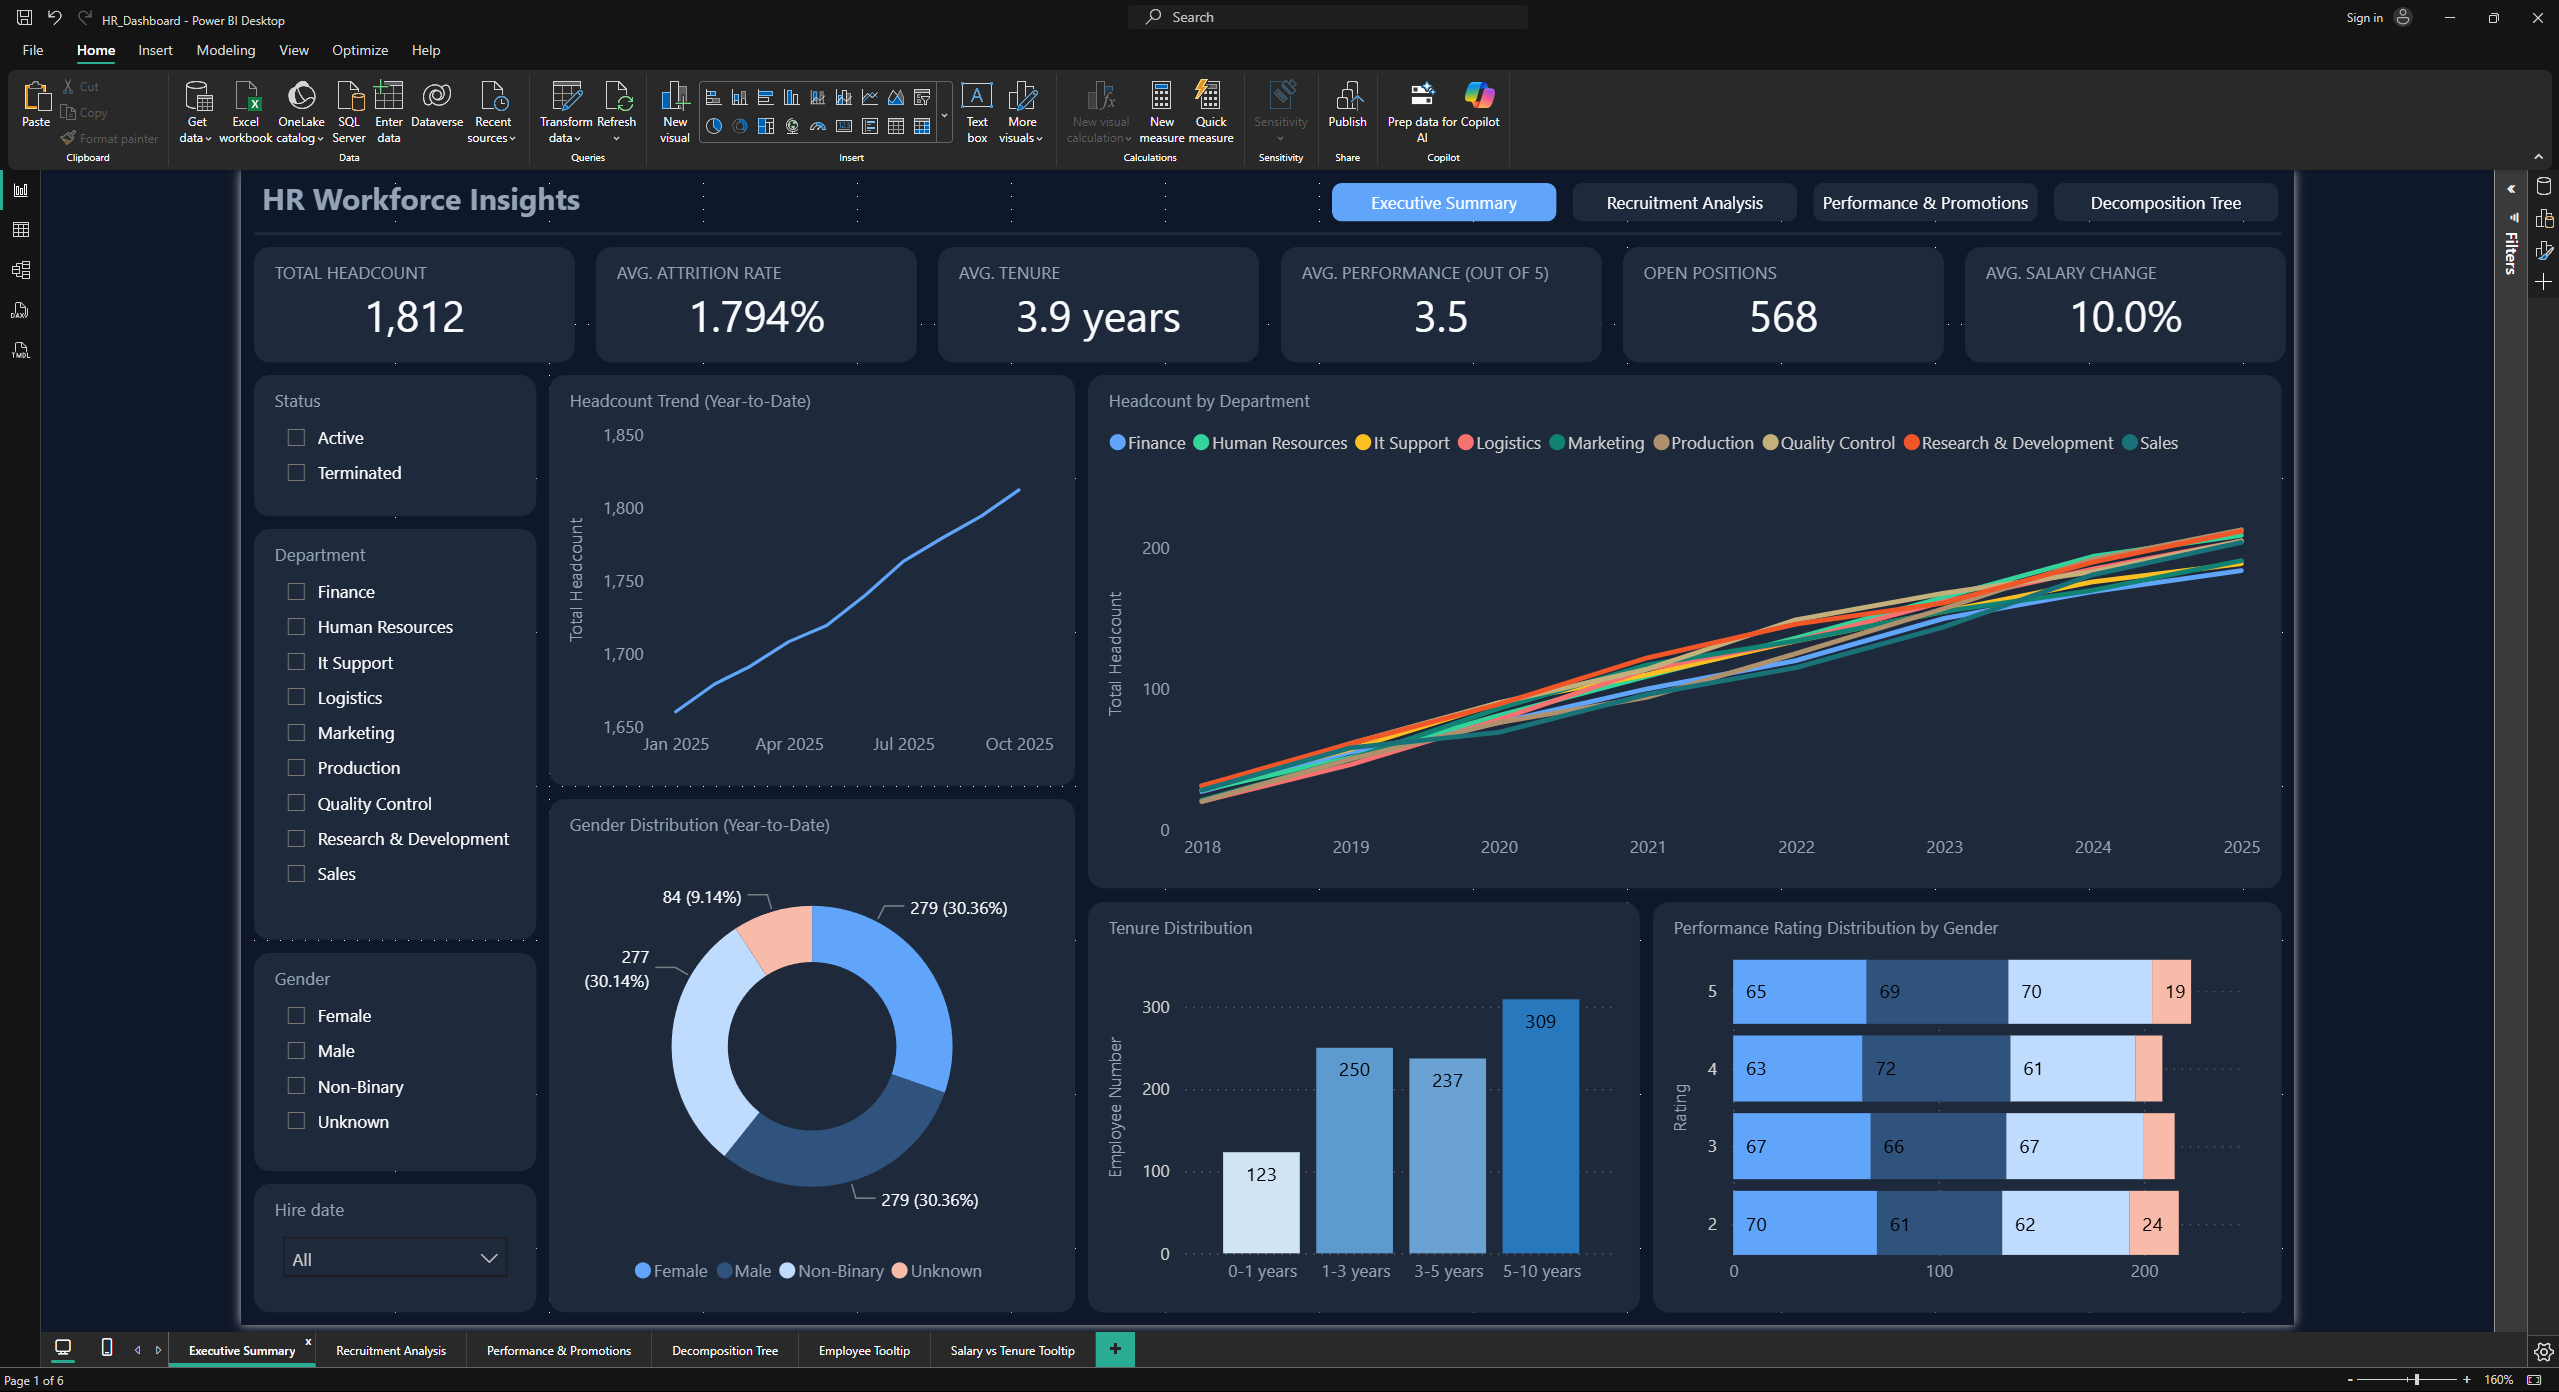

The page's visual inventory and layout, read from the dashboard file:
{"tool":"powerbi","page":{"name":"Executive Summary","canvas":[1280,720],"ordinal":0},"visuals":[{"type":"textbox","box":[8,0,224,40],"z":0},{"type":"shape","box":[8,32,1264,16],"z":1000},{"type":"pageNavigator","box":[680,8,592,24],"z":2000},{"type":"card","title":"TOTAL HEADCOUNT","fields":{"Values":["Compensation_History_cleaned.Total Headcount"]},"box":[8,48,200,72],"z":3000},{"type":"card","title":"AVG. TENURE","fields":{"Values":["Compensation_History_cleaned.Average Tenure (Years)"]},"box":[434.7,48,200,72],"z":4000},{"type":"card","title":"AVG. ATTRITION RATE","fields":{"Values":["Compensation_History_cleaned.Average Attrition Rate %"]},"box":[221.3,48,200,72],"z":5000},{"type":"card","title":"AVG. PERFORMANCE (OUT OF 5)","fields":{"Values":["Compensation_History_cleaned.Average Performance"]},"box":[648,48,200,72],"z":6000},{"type":"card","title":"OPEN POSITIONS","fields":{"Values":["Compensation_History_cleaned.Open Positions"]},"box":[861.3,48,200,72],"z":7000},{"type":"card","title":"AVG. SALARY CHANGE","fields":{"Values":["Compensation_History_cleaned.Avg Salary Change %"]},"box":[1074.7,48,200,72],"z":8000},{"type":"lineChart","title":"Headcount Trend (Year-to-Date)","fields":{"Y":["Compensation_History_cleaned.Total Headcount"],"Category":["Headcount_cleaned.monthend.Variation.Date Hierarchy.Year","Headcount_cleaned.monthend.Variation.Date Hierarchy.Quarter","Headcount_cleaned.monthend.Variation.Date Hierarchy.Month"]},"box":[192,128,328,256],"z":9000},{"type":"donutChart","title":"Gender Distribution (Year-to-Date)","fields":{"Category":["Employee_Master_cleaned.gender"],"Y":["CountNonNull(Employee_Master_cleaned.employeeid)"]},"box":[192,392,328,320],"z":10000},{"type":"lineChart","title":"Headcount by Department","fields":{"Category":["Headcount_cleaned.monthend.Variation.Date Hierarchy.Year","Headcount_cleaned.monthend.Variation.Date Hierarchy.Quarter","Headcount_cleaned.monthend.Variation.Date Hierarchy.Month"],"Y":["Compensation_History_cleaned.Headcount (Company Snapshot)"],"Series":["Headcount_cleaned.department"]},"box":[528,128,744,320],"z":11000},{"type":"columnChart","title":"Tenure Distribution","fields":{"Y":["CountNonNull(Employee_Master_cleaned.employeeid)"],"Category":["TenureBandSortTable.tenure_band"]},"box":[528,456,344,256],"z":12000},{"type":"slicer","title":"Department","fields":{"Values":["Employee_Master_cleaned.department"]},"box":[8,224,176,256],"z":13000},{"type":"slicer","title":"Gender","fields":{"Values":["Employee_Master_cleaned.gender"]},"box":[8,488,176,136],"z":14000},{"type":"slicer","title":"Status","fields":{"Values":["Employee_Master_cleaned.status"]},"box":[8,128,176,88],"z":15000},{"type":"barChart","title":"Performance Rating Distribution by Gender","fields":{"Series":["Employee_Master_cleaned.gender"],"Y":["CountNonNull(Employee_Master_cleaned.employeeid)"],"Category":["Employee_Master_cleaned.performancerating"]},"box":[880,456,392,256],"z":16000},{"type":"slicer","title":"Hire date","fields":{"Values":["Employee_Master_cleaned.hiredate.Variation.Date Hierarchy.Year","Employee_Master_cleaned.hiredate.Variation.Date Hierarchy.Month"]},"box":[8,632,176,80],"z":17000}]}

Visuals, with their boxes on the page's 1280x720 design canvas (x1, y1, x2, y2). These are canvas units, not pixel positions in the 2559x1392 screenshot, which may show the page scaled, cropped or inside an application window:
textbox: bbox=(8, 0, 232, 40)
shape: bbox=(8, 32, 1272, 48)
pageNavigator: bbox=(680, 8, 1272, 32)
"TOTAL HEADCOUNT" card: bbox=(8, 48, 208, 120)
"AVG. TENURE" card: bbox=(435, 48, 635, 120)
"AVG. ATTRITION RATE" card: bbox=(221, 48, 421, 120)
"AVG. PERFORMANCE (OUT OF 5)" card: bbox=(648, 48, 848, 120)
"OPEN POSITIONS" card: bbox=(861, 48, 1061, 120)
"AVG. SALARY CHANGE" card: bbox=(1075, 48, 1275, 120)
"Headcount Trend (Year-to-Date)" lineChart: bbox=(192, 128, 520, 384)
"Gender Distribution (Year-to-Date)" donutChart: bbox=(192, 392, 520, 712)
"Headcount by Department" lineChart: bbox=(528, 128, 1272, 448)
"Tenure Distribution" columnChart: bbox=(528, 456, 872, 712)
"Department" slicer: bbox=(8, 224, 184, 480)
"Gender" slicer: bbox=(8, 488, 184, 624)
"Status" slicer: bbox=(8, 128, 184, 216)
"Performance Rating Distribution by Gender" barChart: bbox=(880, 456, 1272, 712)
"Hire date" slicer: bbox=(8, 632, 184, 712)
